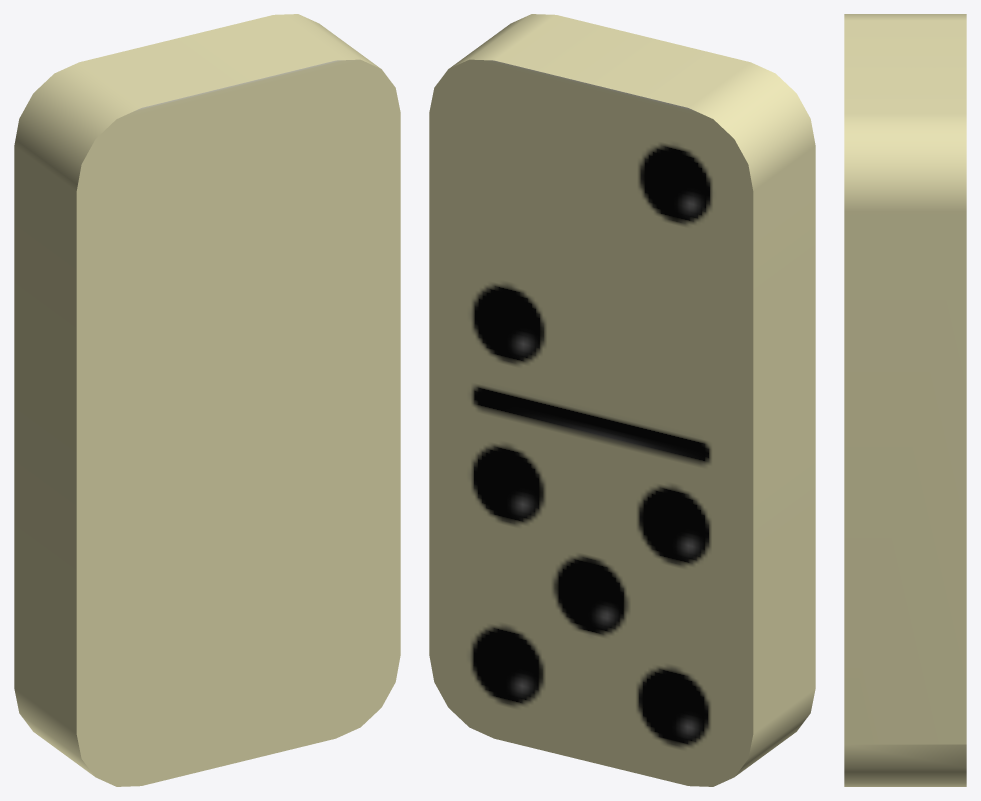
The model's file is domino_7.fbx.
3 renders of one model, left to right at view 1: azimuth 30°, elevation 25°; view 2: azimuth 150°, elevation 25°; view 3: azimuth 270°, elevation 25°, orthographic.
Parts seen in each view (by area): view 1: Domino; view 2: Domino; view 3: Domino.
Boxes of the visible parts, bbox=[...] form: Domino: bbox=[14, 14, 400, 786]; Domino: bbox=[429, 14, 815, 786]; Domino: bbox=[844, 14, 966, 786].
Bounding box in the file's own units: 3 × 6 × 1.
